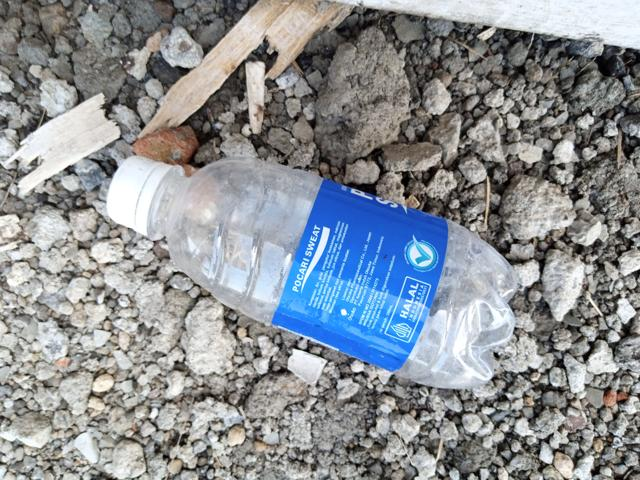botol_kaca: (91, 146, 527, 399)
